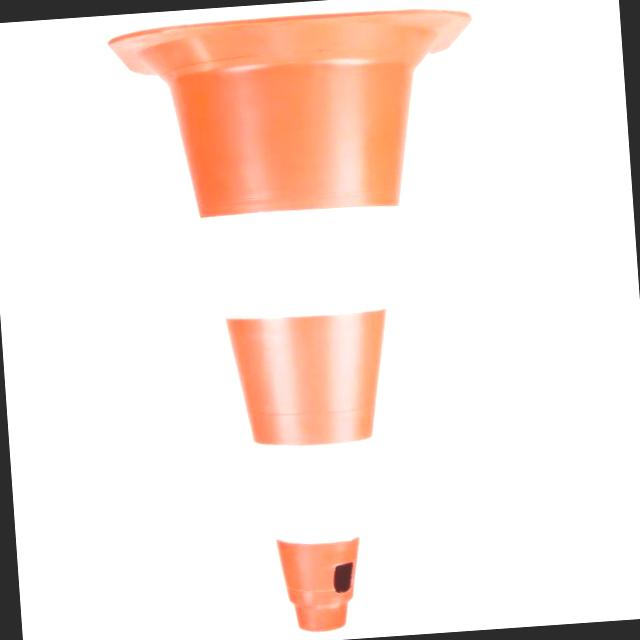cone: (91, 8, 527, 640)
